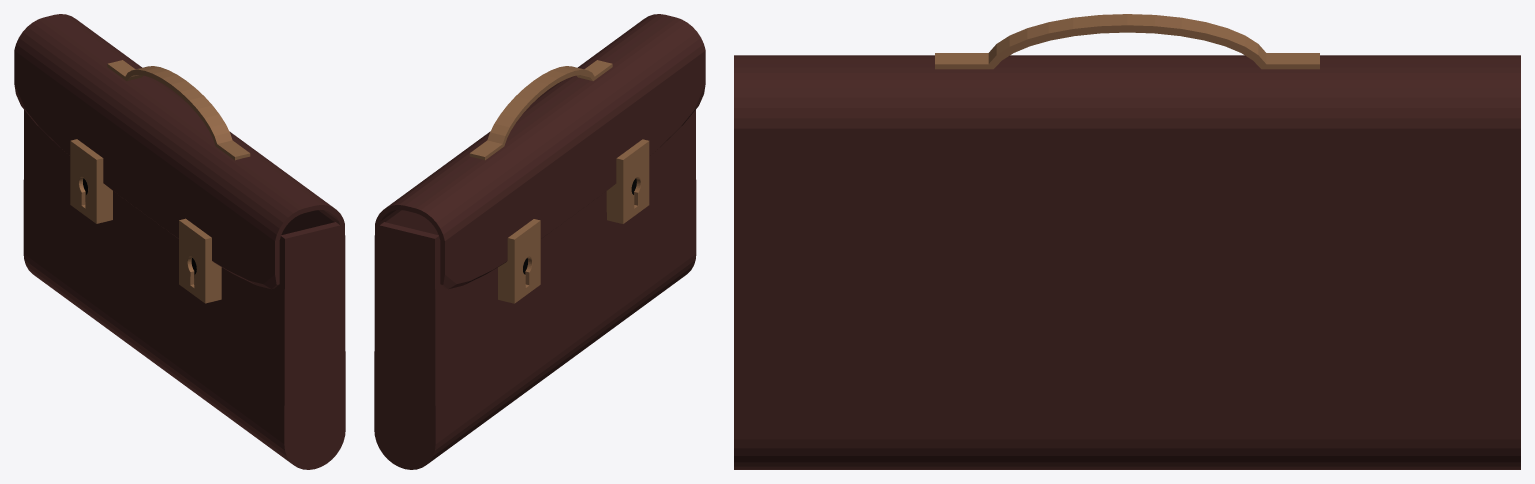
Rendered from Briefcase.fbx.
The picture shows the model from 3 angles, left to right: view 1: azimuth 30°, elevation 25°; view 2: azimuth 150°, elevation 25°; view 3: azimuth 270°, elevation 25°; orthographic projection. The views are drawn at different scales.
Parts seen in each view (by area): view 1: Briefcase; view 2: Briefcase; view 3: Briefcase.
Boxes of the visible parts, x1,y1,x2,y2 form: Briefcase: (14,14,345,469); Briefcase: (374,14,705,469); Briefcase: (734,14,1520,469).
Size of the model in its own units: 253 by 911 by 1473.
